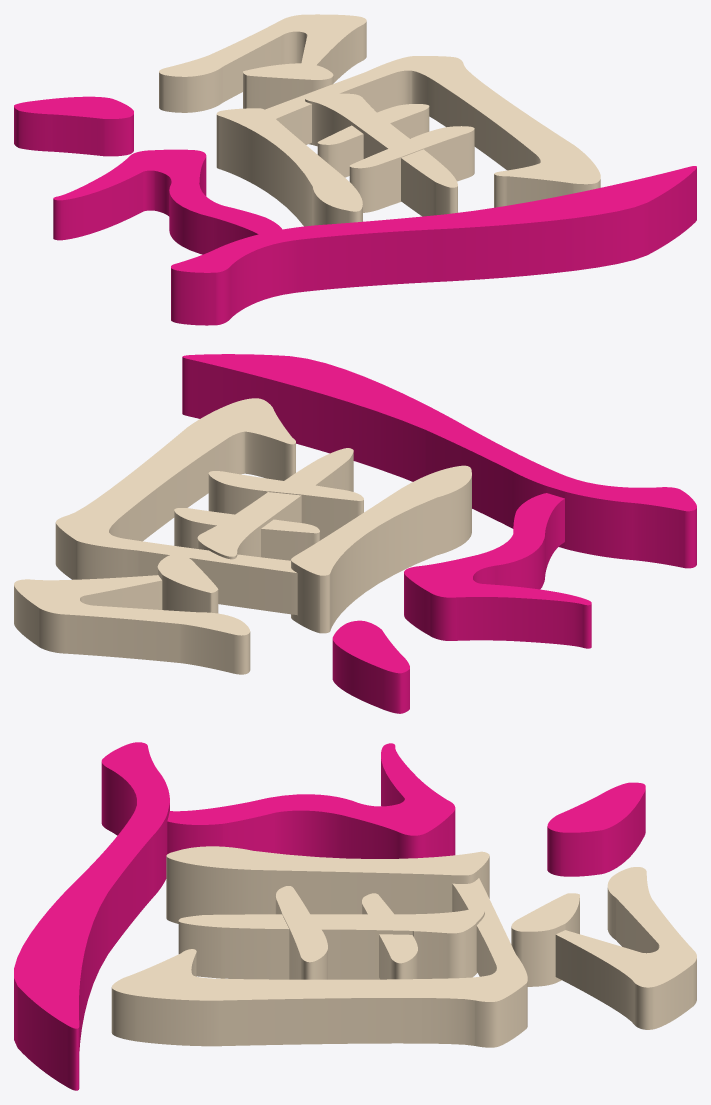
The model's file is hanzi235.fbx.
3 renders of one model, top to bottom at view 1: azimuth 30°, elevation 25°; view 2: azimuth 150°, elevation 25°; view 3: azimuth 270°, elevation 25°, orthographic. The views are drawn at different scales.
Parts seen in each view (by area): view 1: Curve.009, Curve.003, Curve.008, Curve, Curve.002, Curve.006, Curve.007, Curve.005, Curve.001, Curve.004; view 2: Curve.009, Curve.003, Curve.008, Curve, Curve.002, Curve.007, Curve.006, Curve.005, Curve.004, Curve.001; view 3: Curve.003, Curve.009, Curve.002, Curve.008, Curve.006, Curve, Curve.007, Curve.001, Curve.005, Curve.004.
Part boxes in pixels (bbox=[...]): Curve.009: bbox=[171, 166, 696, 325]; Curve.003: bbox=[265, 56, 600, 207]; Curve.008: bbox=[53, 149, 282, 254]; Curve: bbox=[159, 14, 366, 112]; Curve.002: bbox=[216, 108, 362, 226]; Curve.006: bbox=[305, 93, 457, 216]; Curve.007: bbox=[14, 96, 133, 156]; Curve.005: bbox=[349, 126, 474, 212]; Curve.001: bbox=[243, 63, 333, 109]; Curve.004: bbox=[317, 104, 429, 177]; Curve.009: bbox=[182, 354, 696, 568]; Curve.003: bbox=[55, 398, 297, 615]; Curve.008: bbox=[404, 493, 591, 648]; Curve: bbox=[14, 575, 250, 674]; Curve.002: bbox=[291, 465, 471, 633]; Curve.007: bbox=[332, 620, 409, 713]; Curve.006: bbox=[197, 448, 353, 559]; Curve.005: bbox=[208, 471, 363, 540]; Curve.004: bbox=[174, 508, 319, 560]; Curve.001: bbox=[157, 554, 218, 613]; Curve.003: bbox=[111, 878, 527, 1047]; Curve.009: bbox=[14, 742, 169, 1090]; Curve.002: bbox=[166, 846, 489, 923]; Curve.008: bbox=[167, 743, 455, 858]; Curve.006: bbox=[178, 907, 484, 979]; Curve: bbox=[555, 867, 696, 1029]; Curve.007: bbox=[547, 782, 645, 876]; Curve.001: bbox=[511, 893, 579, 986]; Curve.005: bbox=[275, 886, 327, 979]; Curve.004: bbox=[362, 893, 417, 979].
Size of the model in its own units: 24.03 by 23.68 by 2.4.
